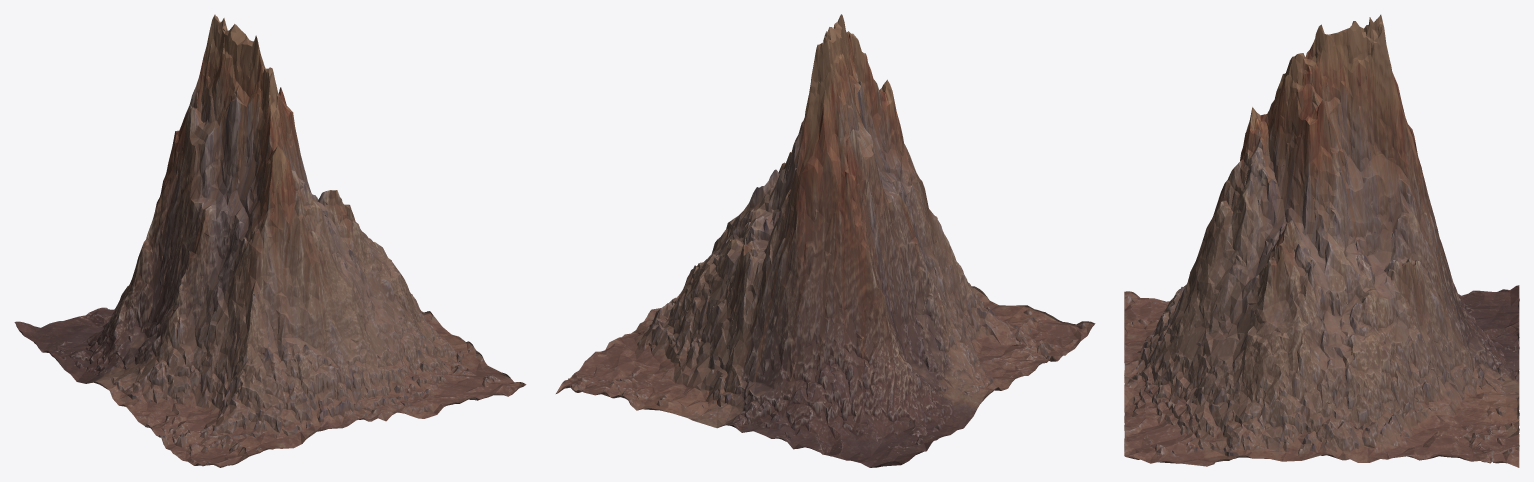
Rendered from montana_01.obj.
3 renders of one model, left to right at view 1: azimuth 30°, elevation 25°; view 2: azimuth 150°, elevation 25°; view 3: azimuth 270°, elevation 25°, orthographic. The views are drawn at different scales.
Parts seen in each view (by area): view 1: montana_rocosa_01; view 2: montana_rocosa_01; view 3: montana_rocosa_01.
Part boxes in pixels (bbox=[...]): montana_rocosa_01: bbox=[14, 14, 526, 467]; montana_rocosa_01: bbox=[556, 14, 1095, 467]; montana_rocosa_01: bbox=[1124, 14, 1519, 467].
Size of the model in its own units: 1 by 0.9998 by 1.
1 material, 1 textured.
